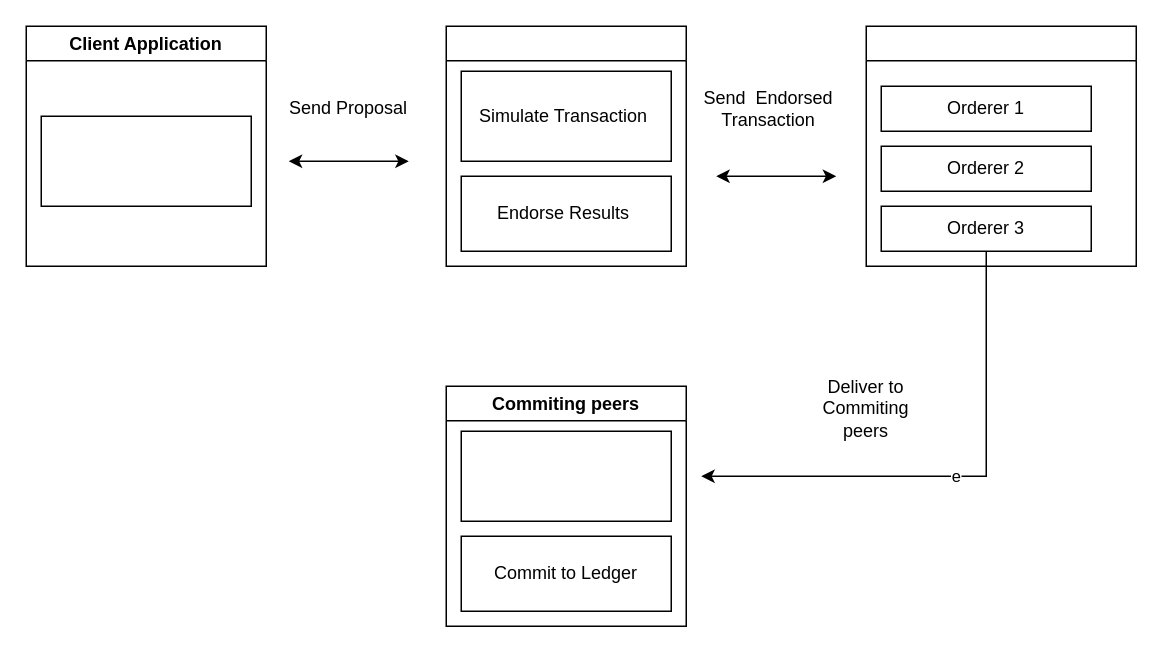
This 1163x653 diagram has some shape labels left out. Each missing label, with the box of its shape:
Endorsing peers: (445, 25, 686, 266)
Ordering Sevice (Batching): (865, 25, 1136, 266)
Transaction Proposal: (40, 115, 251, 206)
Validate Blocks: (460, 430, 671, 521)
